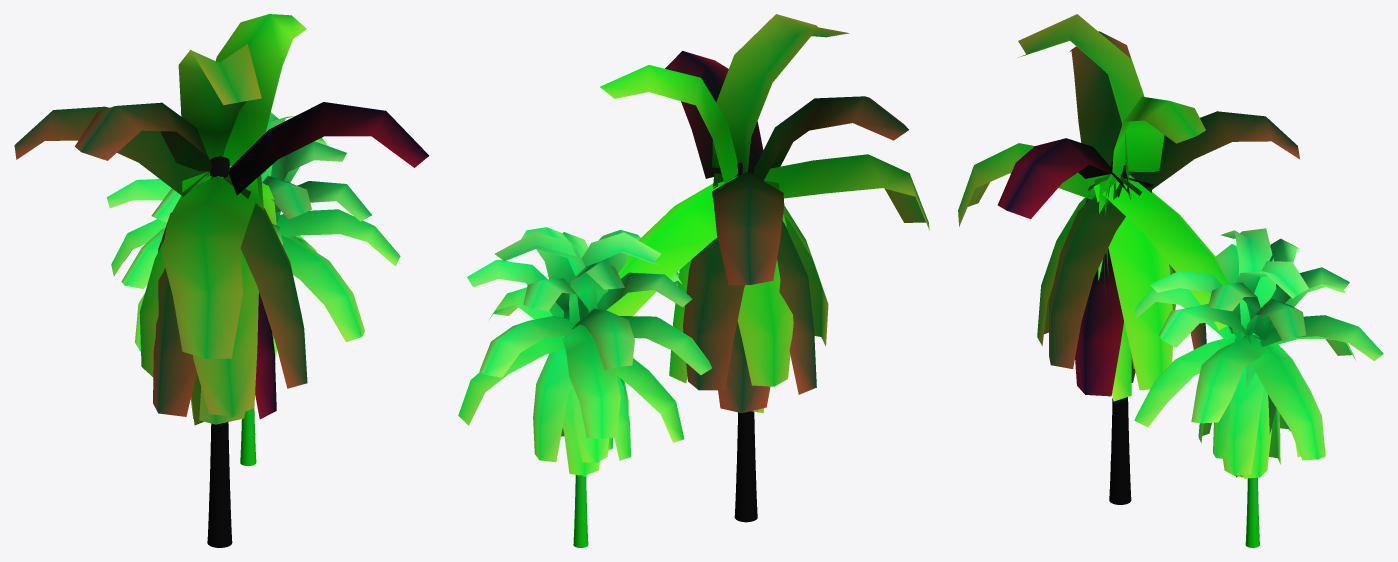
The model's file is SM_Palm6_5.fbx.
3 views of the same model, side by side, from view 1: azimuth 30°, elevation 25°; view 2: azimuth 150°, elevation 25°; view 3: azimuth 270°, elevation 25° (orthographic). The views are drawn at different scales.
Visible parts, largest first — view 1: SM_Palm6_5; view 2: SM_Palm6_5; view 3: SM_Palm6_5.
Part boxes in pixels (box(x1,y1,x2,y2)): SM_Palm6_5: box(14, 14, 429, 547); SM_Palm6_5: box(458, 14, 929, 547); SM_Palm6_5: box(958, 14, 1383, 547).
Size of the model in its own units: 723 by 943 by 786.
